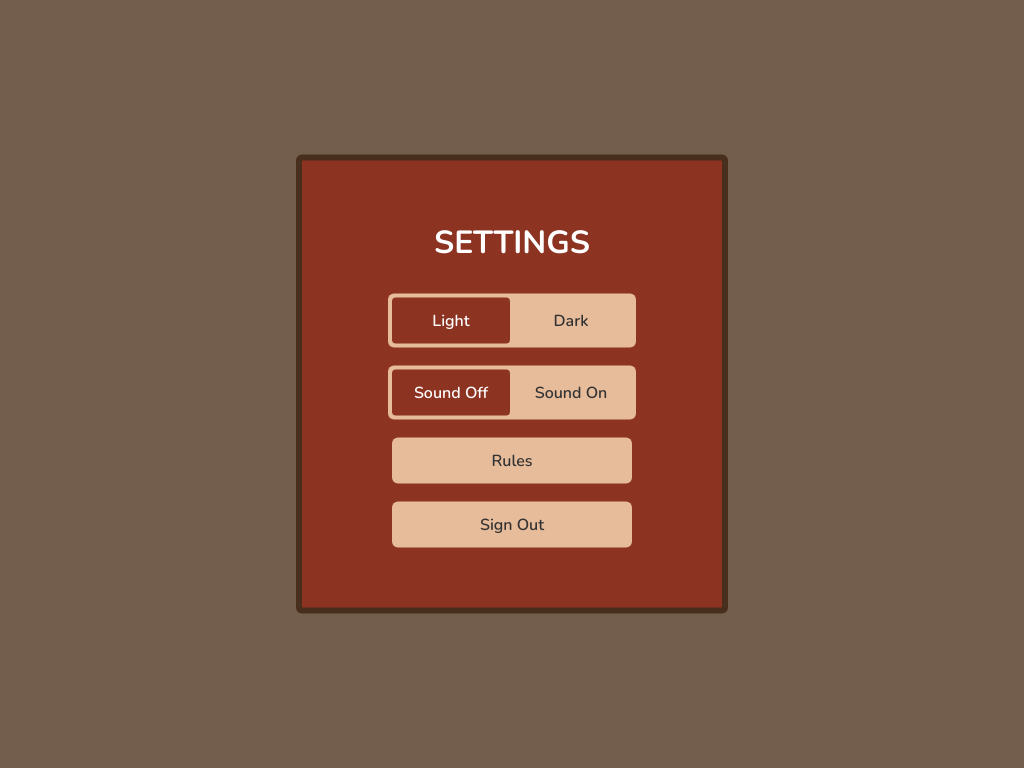
Test: Settings.rules › closes rules screen via close button
Click the button "Rules".
click(512, 460)  # box left=392, top=438, right=632, bottom=484
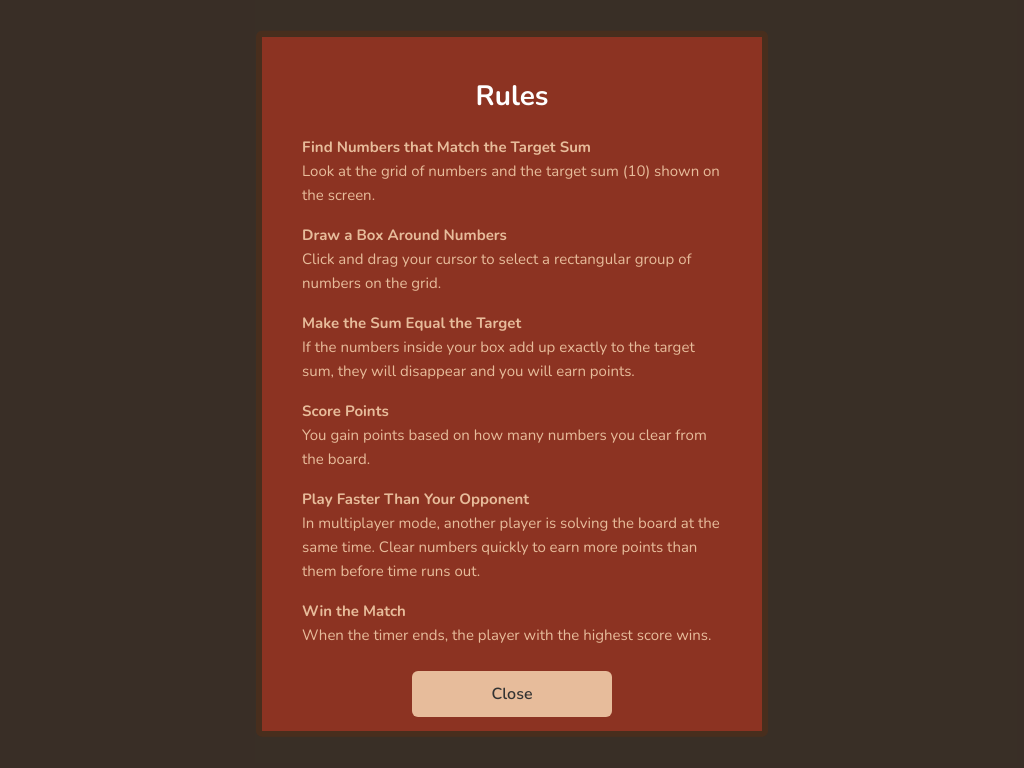
Click the button "Close".
click(512, 694)  # box left=412, top=671, right=612, bottom=717
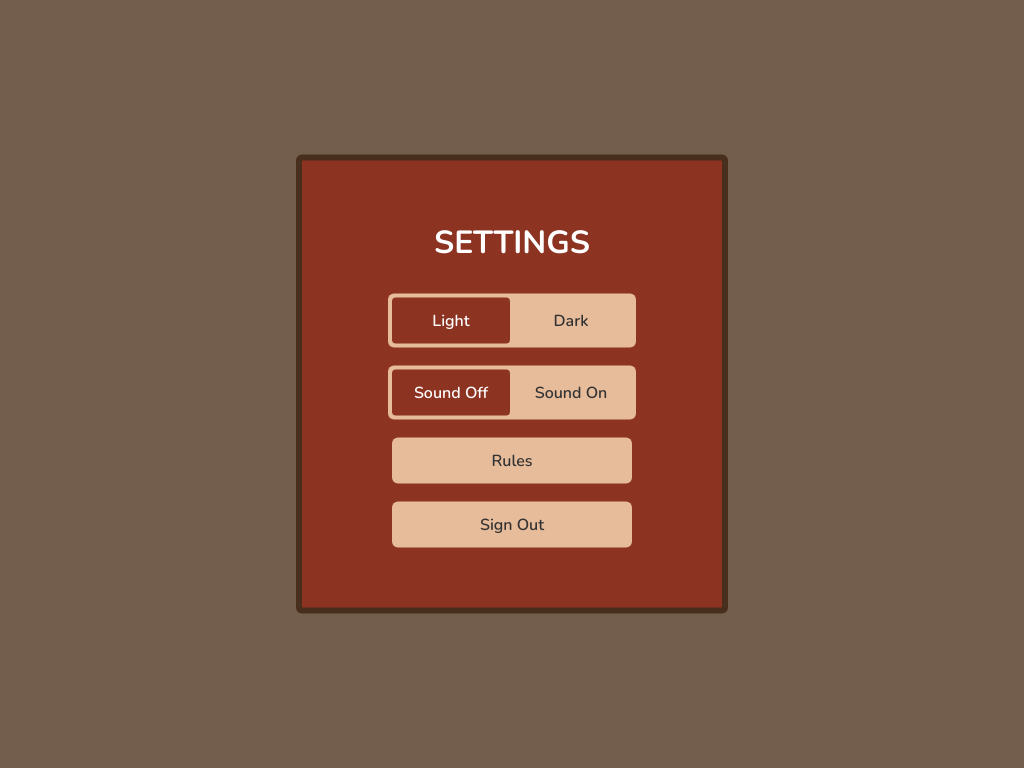
Expected: the text "Find Numbers that Match the Target Sum" is gone
